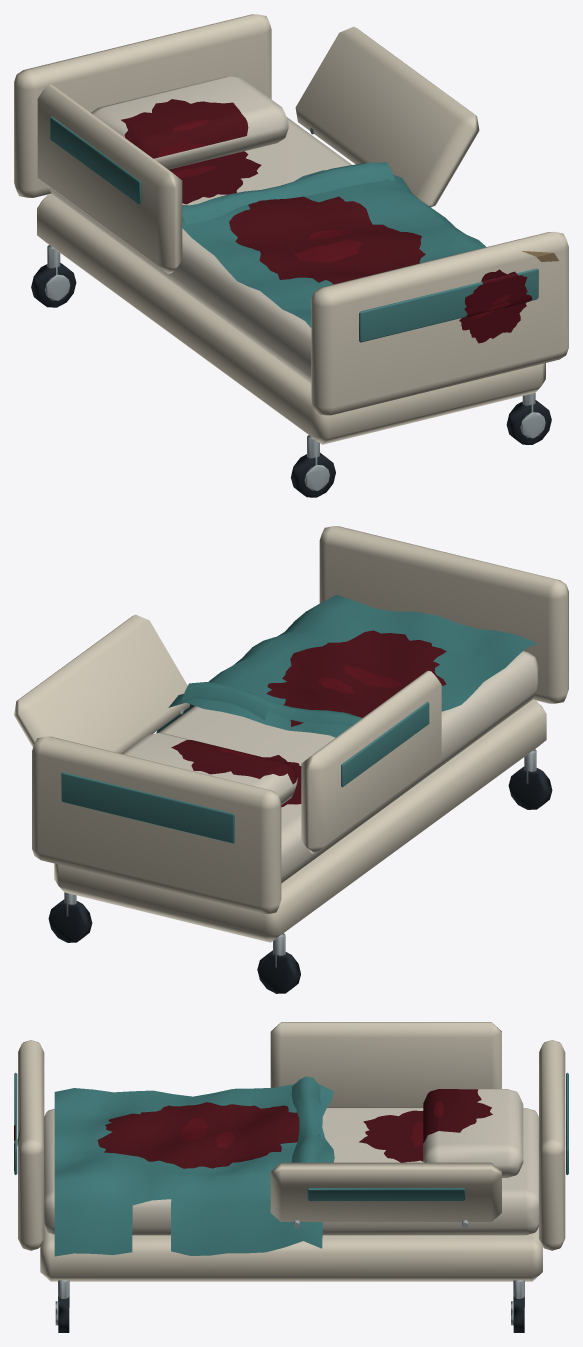
Rendered from recovery_bed.glb.
3 views of the same model, one above another, from view 1: azimuth 30°, elevation 25°; view 2: azimuth 150°, elevation 25°; view 3: azimuth 270°, elevation 25° (orthographic). The views are drawn at different scales.
Visible parts, largest first — view 1: OB_RecoveryBed_01_Static; view 2: OB_RecoveryBed_01_Static; view 3: OB_RecoveryBed_01_Static.
Part boxes in pixels (x1=…): OB_RecoveryBed_01_Static: x1=14, y1=14, x2=568, y2=497; OB_RecoveryBed_01_Static: x1=14, y1=526, x2=568, y2=993; OB_RecoveryBed_01_Static: x1=14, y1=1022, x2=568, y2=1332.
Size of the model in its own units: 1.25 by 0.87 by 2.11.
